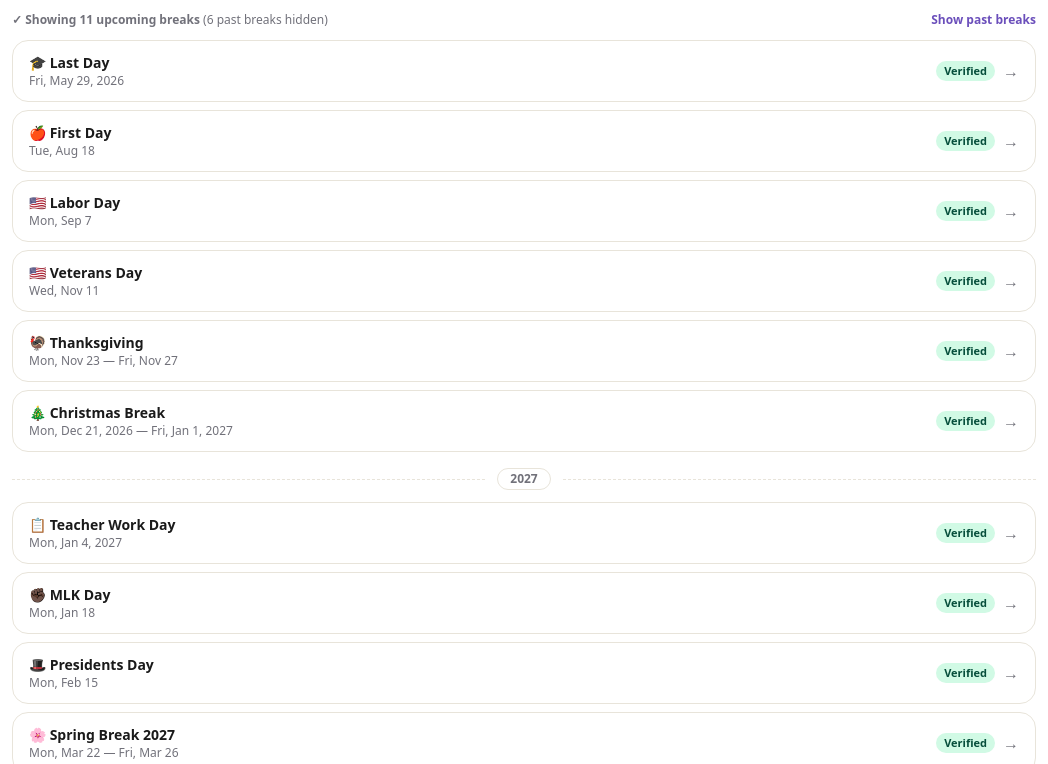
Test case: SchoolCalendarList — past-breaks collapse › clicking "Show past breaks" reveals them above upcoming + flips button label
The image size is (1048, 764).
Click the button "Show past breaks" at (984,20), box [931,12,1036,28]
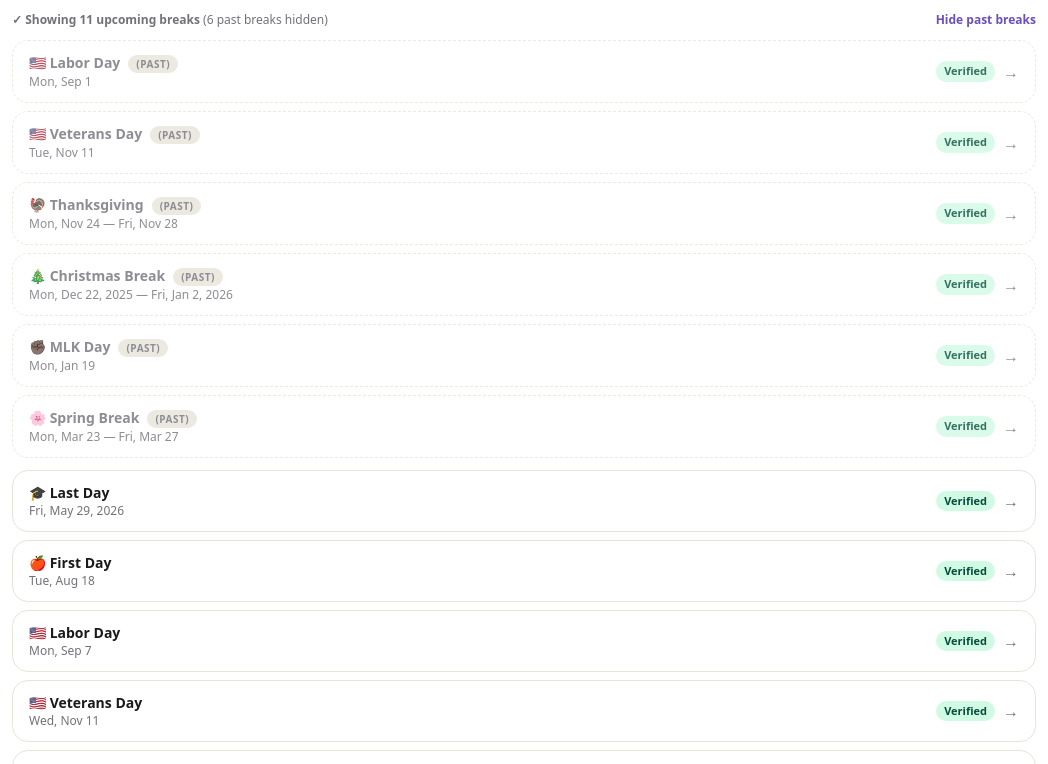
Now the button "Hide past breaks" is shown, box [936,12,1036,28]
Now the list that starts with "Labor Day" is shown, box [12,40,1036,458]
Now the text "✊🏿 MLK Day(past)" is shown, box [29,337,168,358]
